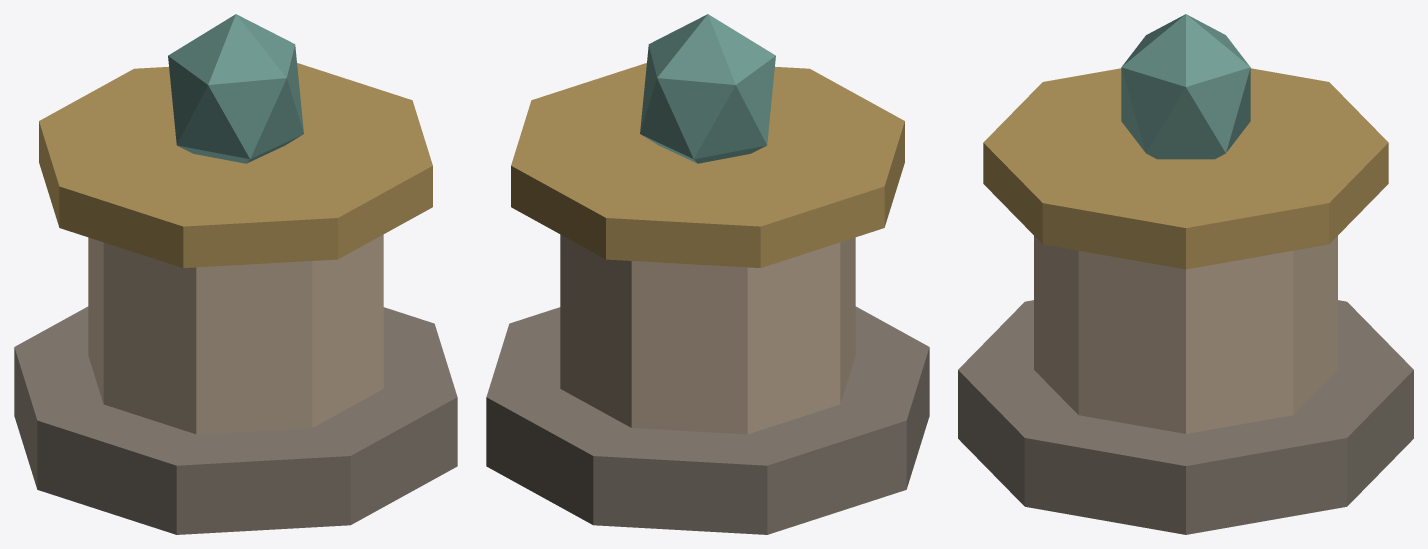
The model's file is pedestal.glb.
3 renders of one model, left to right at view 1: azimuth 30°, elevation 25°; view 2: azimuth 150°, elevation 25°; view 3: azimuth 270°, elevation 25°, orthographic.
Parts seen in each view (by area): view 1: pedestal; view 2: pedestal; view 3: pedestal.
Part boxes in pixels (x1=…): pedestal: x1=14, y1=14, x2=457, y2=534; pedestal: x1=486, y1=14, x2=929, y2=534; pedestal: x1=958, y1=14, x2=1413, y2=534.
Bounding box in the file's own units: 1.8 × 1.85 × 1.8.
